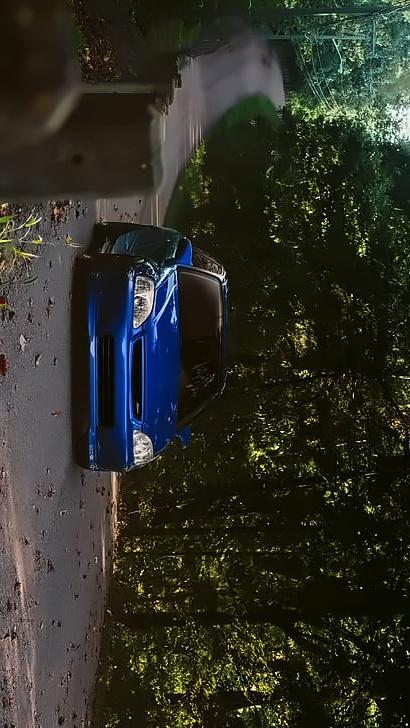Car hood: (138, 262, 185, 459)
Driver-s door - -F-R-: (85, 230, 232, 285)
Front bumper: (63, 263, 139, 474)
Headlight - -L-: (130, 428, 155, 470)
Headlight - -R-: (129, 273, 159, 336)
Side mirror - -R-: (175, 236, 197, 271)
